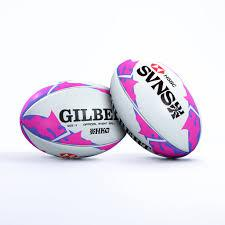ballon_rugby: (110, 58, 202, 162), (20, 81, 131, 160)
